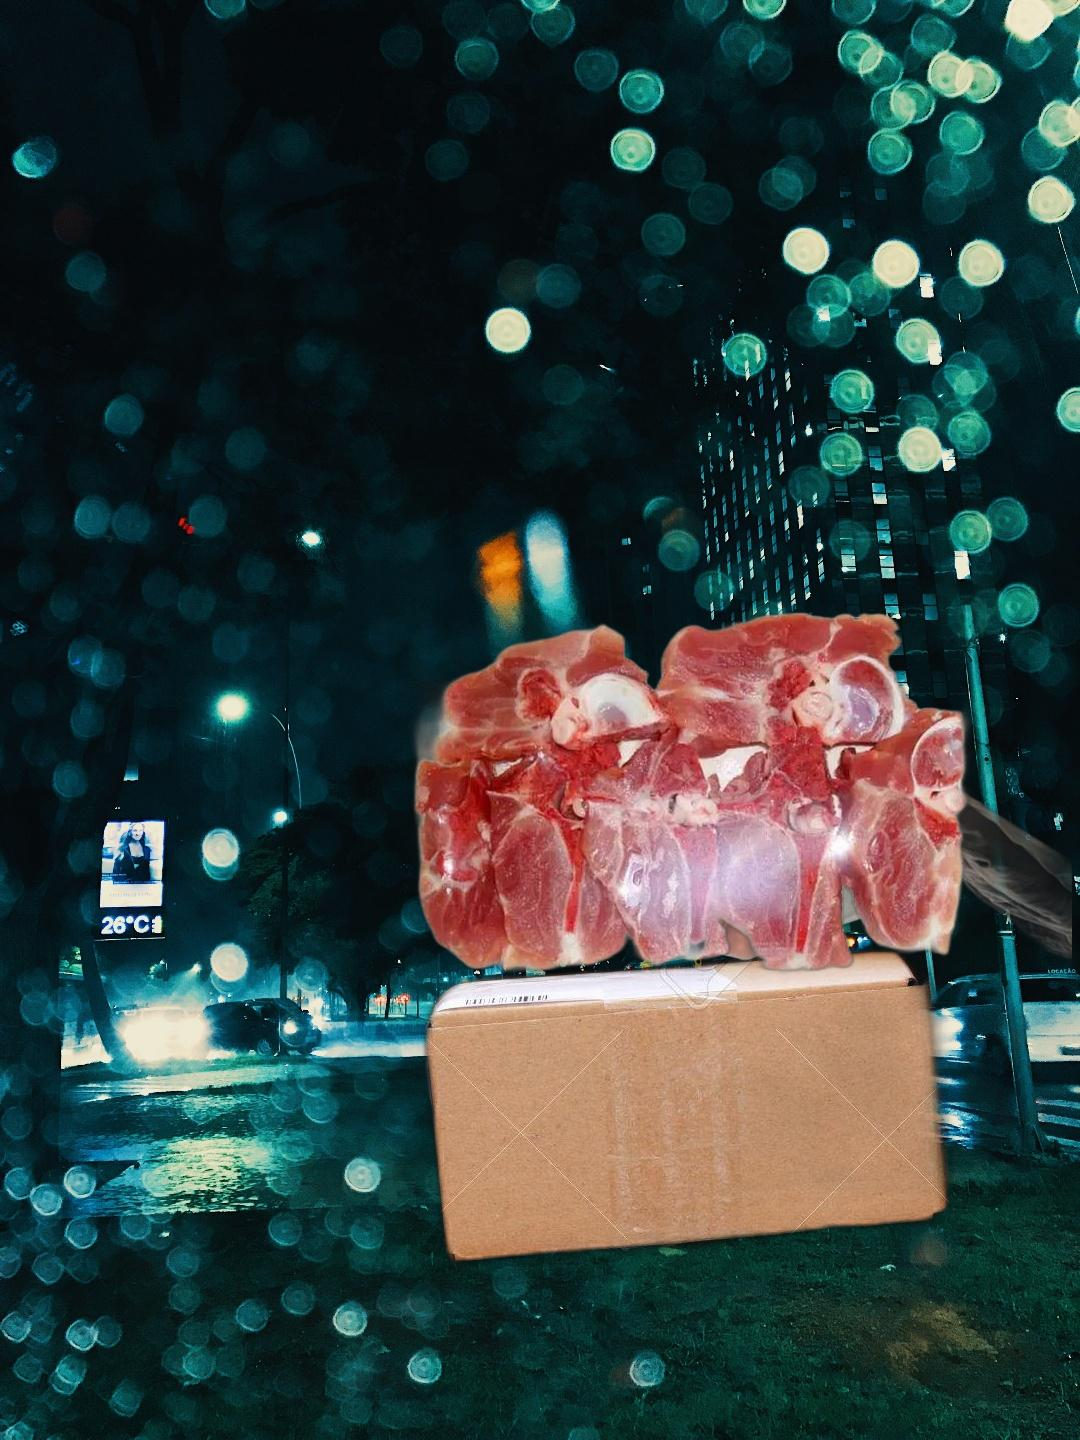biological: (399, 582, 997, 1009)
paper: (640, 667, 1072, 1043)
trashbox-cardboard: (92, 903, 1080, 1440)
